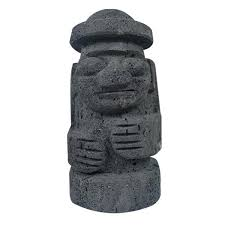Stone Statue: (56, 4, 169, 213)
